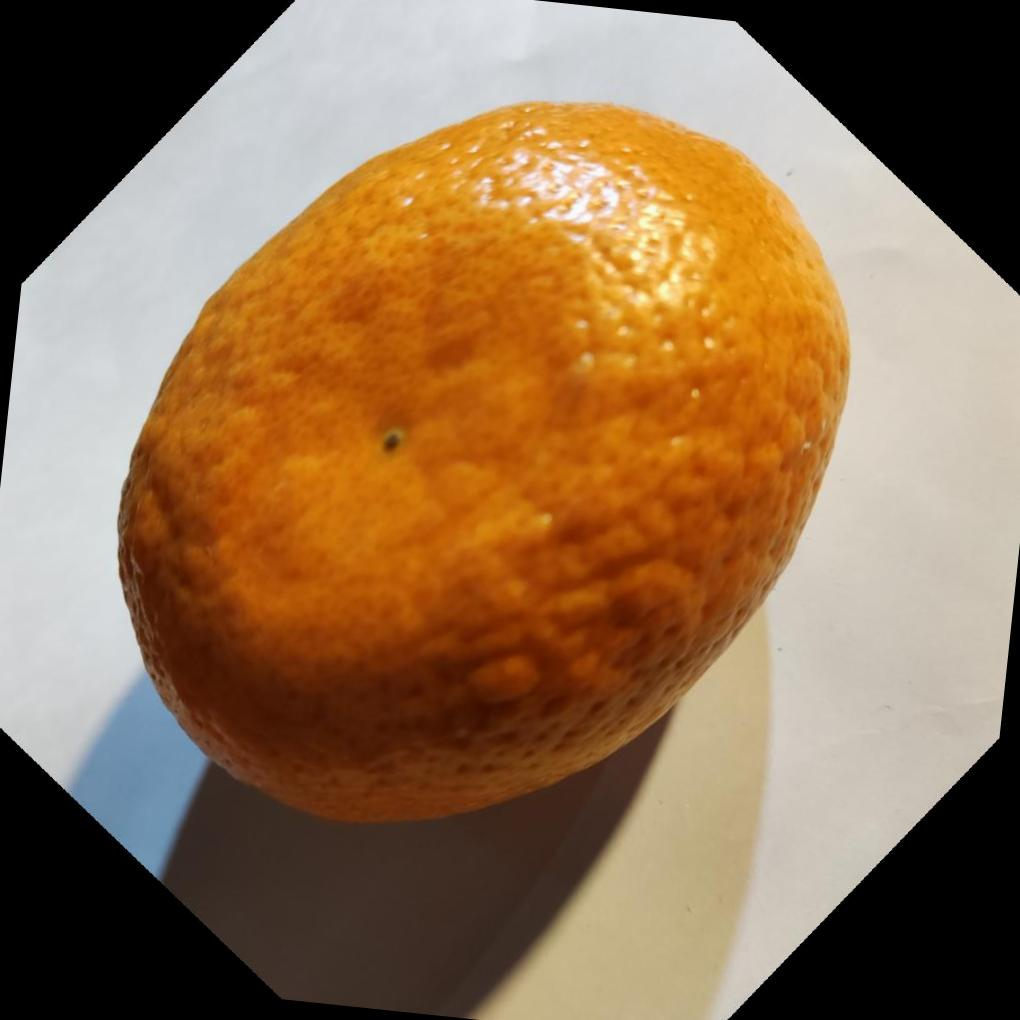FreshGuava: (113, 100, 852, 830)
